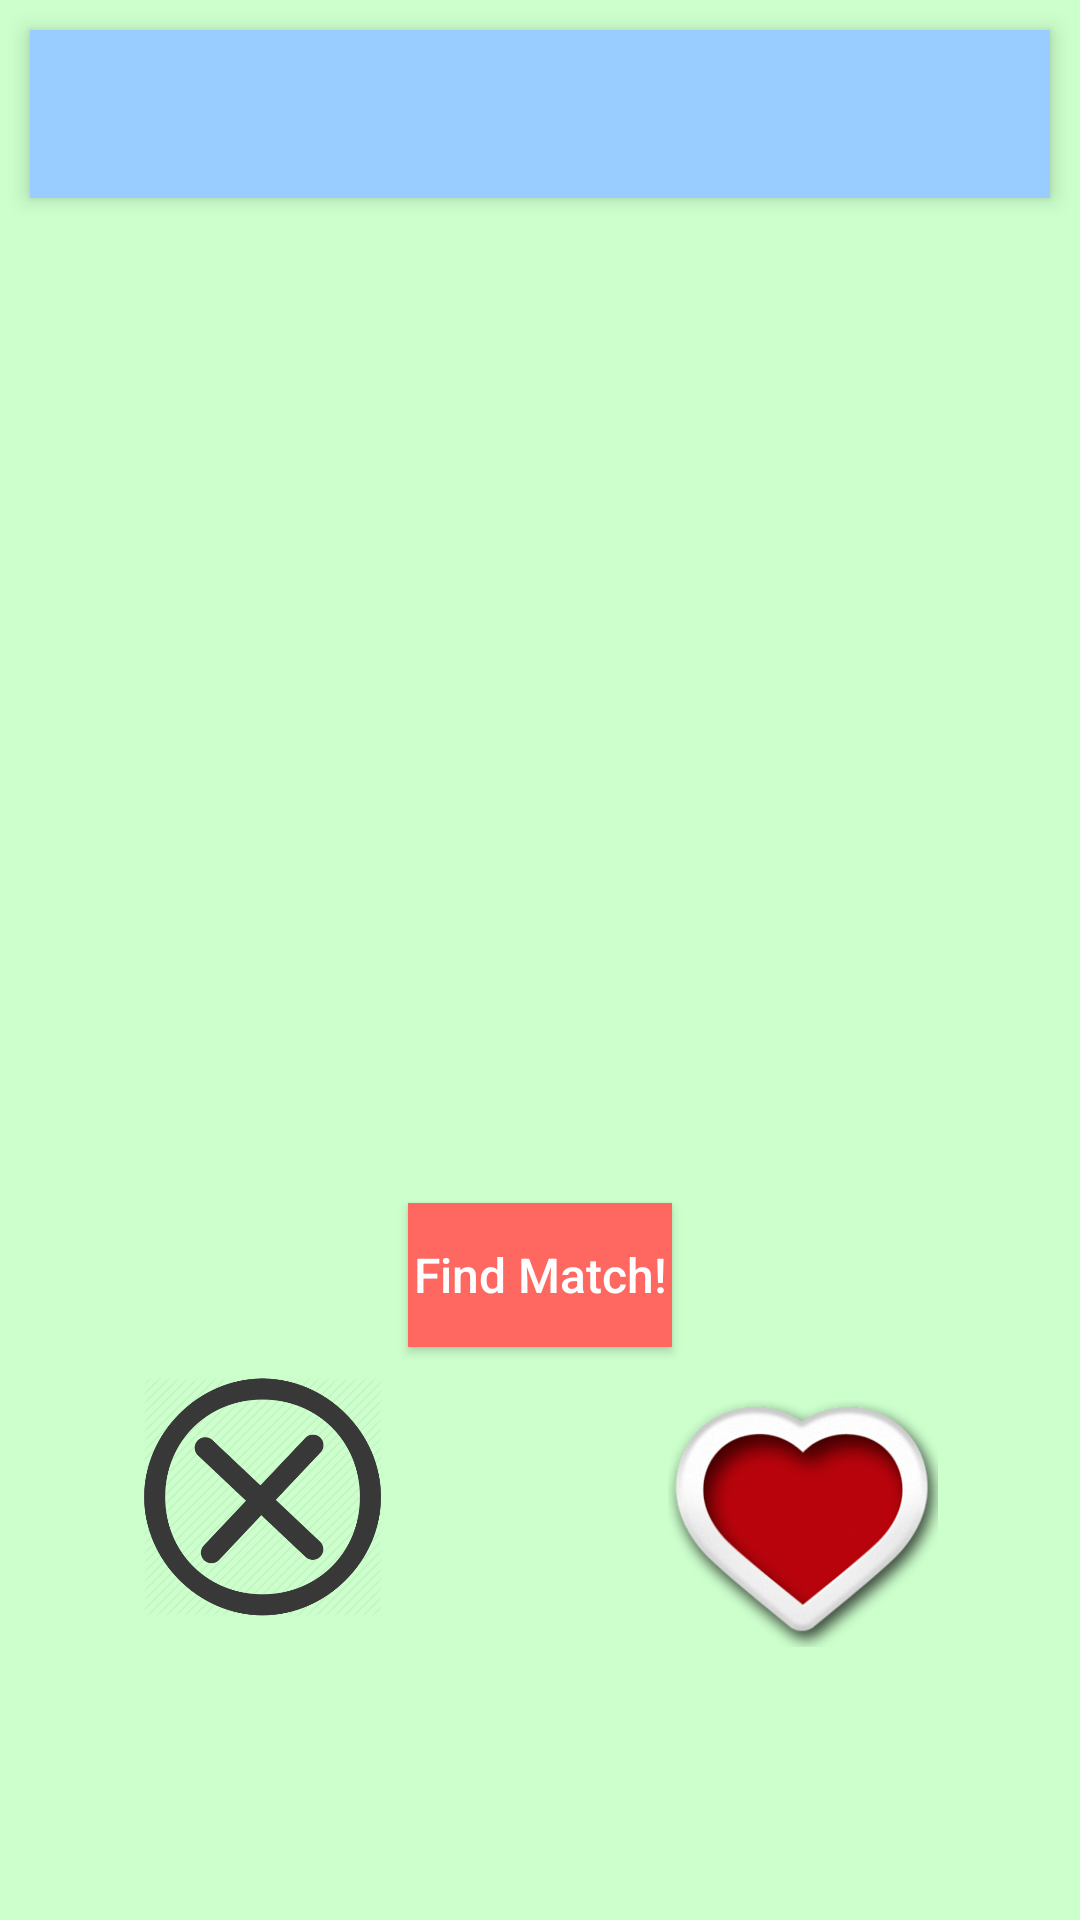

Icon bounding boxes for this 1080*1920 phone screenshot, format (x1, y1, x2, y2):
match cross: (144, 1378, 381, 1616)
match heart: (672, 1406, 938, 1646)
